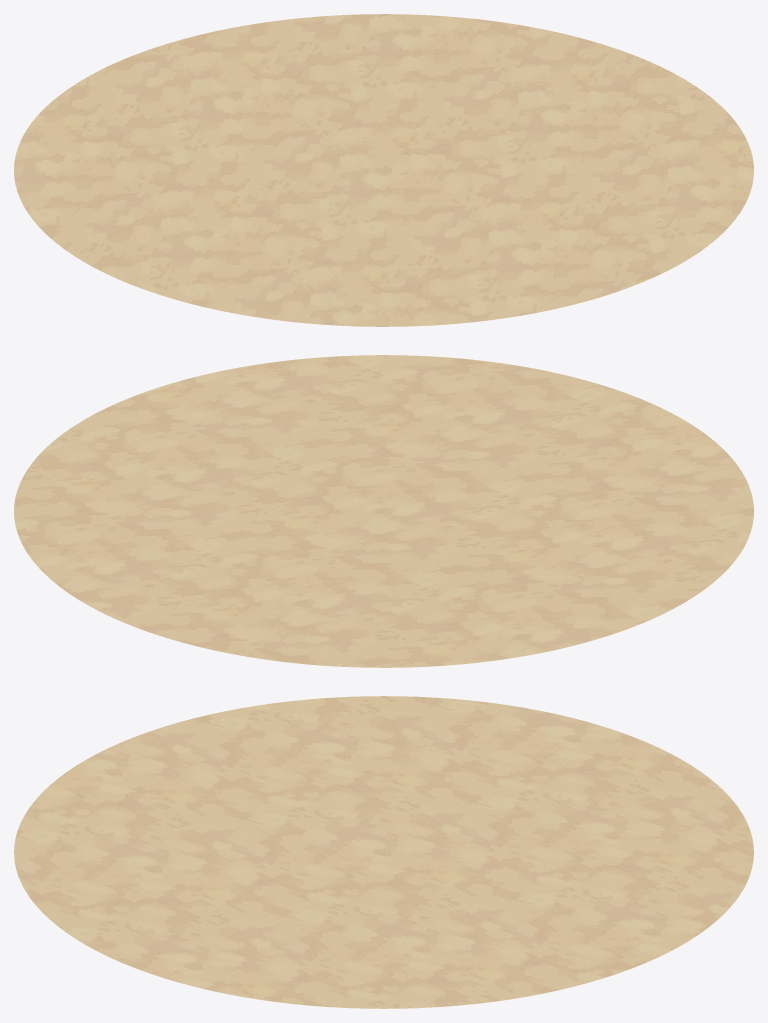
File: city_ground_bottom.fbx
3 renders of one model, top to bottom at view 1: azimuth 30°, elevation 25°; view 2: azimuth 150°, elevation 25°; view 3: azimuth 270°, elevation 25°, orthographic.
Visible parts, largest first — view 1: _Based Fin.009; view 2: _Based Fin.009; view 3: _Based Fin.009.
Boxes of the visible parts, x1,y1,x2,y2 form: _Based Fin.009: [14, 14, 753, 326]; _Based Fin.009: [14, 355, 753, 667]; _Based Fin.009: [14, 696, 753, 1008].
Bounding box in the file's own units: 35014 × 0.0057 × 35014.
